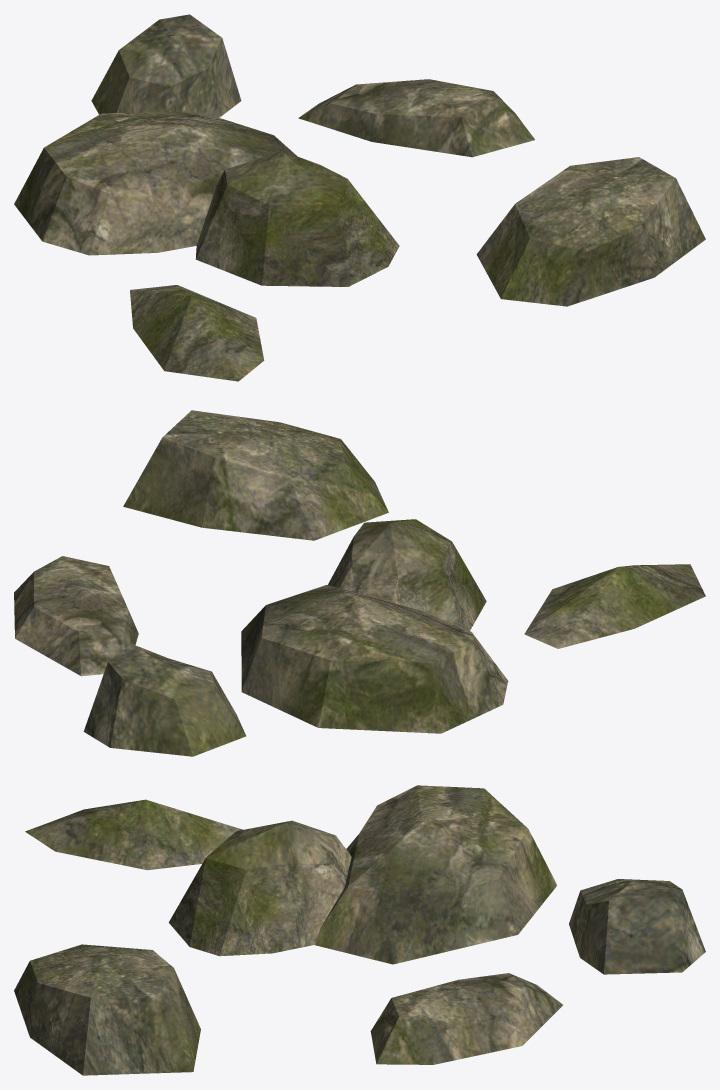
The model's file is Youshuizhou_zhiwu_016_2.FBX.
3 views of the same model, one above another, from view 1: azimuth 30°, elevation 25°; view 2: azimuth 150°, elevation 25°; view 3: azimuth 270°, elevation 25° (orthographic).
Parts seen in each view (by area): view 1: gy_st_yanshi001_lj2; view 2: gy_st_yanshi001_lj2; view 3: gy_st_yanshi001_lj2.
Part boxes in pixels (x1,y1,x2,y2): gy_st_yanshi001_lj2: [14, 14, 705, 381]; gy_st_yanshi001_lj2: [14, 410, 705, 756]; gy_st_yanshi001_lj2: [14, 785, 705, 1075].
Bounding box in the file's own units: 160 × 27.01 × 175.
